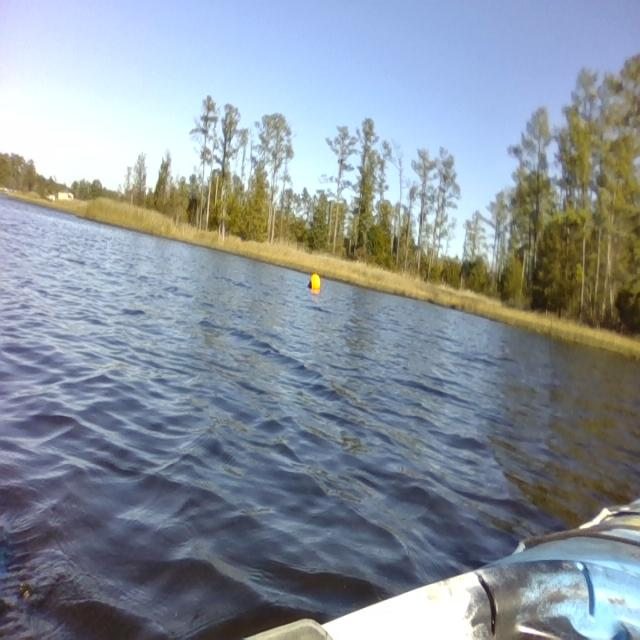Buoy: (306, 270, 322, 294)
